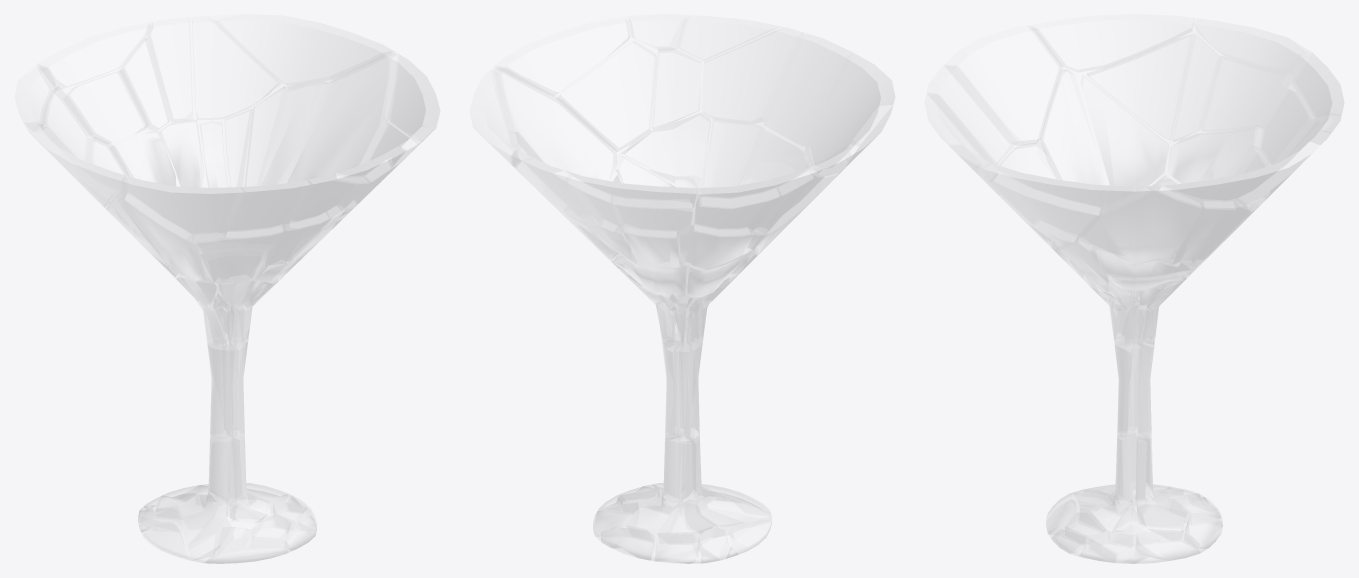
File: Cocktail.obj
3 views of the same model, side by side, from view 1: azimuth 30°, elevation 25°; view 2: azimuth 150°, elevation 25°; view 3: azimuth 270°, elevation 25° (orthographic).
Visible parts, largest first — view 1: 立方体.001, 立方体.002_cell.045, 立方体.002_cell.093, 立方体.002_cell.055, 立方体.002_cell.050, 立方体.002_cell.092, 立方体.002_cell.056, 立方体.002_cell.001, 立方体.002_cell.059, 立方体.002_cell.010, 立方体.002_cell.019, 立方体.002_cell.027 (+29 smaller); view 2: 立方体.001, 立方体.002_cell.045, 立方体.002_cell.073, 立方体.002_cell.027, 立方体.002_cell.019, 立方体.002_cell.010, 立方体.002_cell.050, 立方体.002_cell.023, 立方体.002_cell.020, 立方体.002_cell.095, 立方体.002_cell.058, 立方体.002_cell.093 (+31 smaller); view 3: 立方体.001, 立方体.002_cell.050, 立方体.002_cell.074, 立方体.002_cell.045, 立方体.002_cell.046, 立方体.002_cell.088, 立方体.002_cell.031, 立方体.002_cell.086, 立方体.002_cell.085, 立方体.002_cell.019, 立方体.002_cell.093, 立方体.002_cell.010 (+28 smaller).
Part boxes in pixels (x1,y1,x2,y2): 立方体.001: [15, 14, 439, 563]; 立方体.002_cell.045: [287, 54, 395, 182]; 立方体.002_cell.093: [216, 14, 392, 84]; 立方体.002_cell.055: [192, 16, 281, 119]; 立方体.002_cell.050: [123, 177, 243, 241]; 立方体.002_cell.092: [67, 70, 148, 142]; 立方体.002_cell.056: [37, 23, 149, 88]; 立方体.002_cell.001: [148, 18, 192, 121]; 立方体.002_cell.059: [259, 81, 326, 184]; 立方体.002_cell.010: [226, 181, 308, 236]; 立方体.002_cell.019: [385, 55, 439, 135]; 立方体.002_cell.027: [290, 175, 368, 227]; 立方体.001: [470, 14, 894, 563]; 立方体.002_cell.045: [494, 68, 616, 180]; 立方体.002_cell.073: [558, 41, 656, 151]; 立方体.002_cell.027: [703, 28, 803, 123]; 立方体.002_cell.019: [496, 19, 629, 94]; 立方体.002_cell.010: [763, 34, 852, 145]; 立方体.002_cell.050: [805, 54, 894, 165]; 立方体.002_cell.023: [652, 49, 700, 128]; 立方体.002_cell.020: [621, 113, 710, 169]; 立方体.002_cell.095: [707, 119, 763, 186]; 立方体.002_cell.058: [677, 15, 779, 60]; 立方体.002_cell.093: [470, 70, 519, 164]; 立方体.001: [925, 14, 1343, 563]; 立方体.002_cell.050: [945, 26, 1062, 145]; 立方体.002_cell.074: [1031, 14, 1194, 71]; 立方体.002_cell.045: [1080, 186, 1201, 263]; 立方体.002_cell.046: [1087, 35, 1192, 139]; 立方体.002_cell.088: [1081, 75, 1168, 185]; 立方体.002_cell.031: [1041, 70, 1106, 184]; 立方体.002_cell.086: [1201, 56, 1289, 130]; 立方体.002_cell.085: [1168, 128, 1257, 182]; 立方体.002_cell.019: [984, 164, 1149, 214]; 立方体.002_cell.093: [1160, 142, 1319, 207]; 立方体.002_cell.010: [927, 66, 1017, 164].
Size of the model in its own units: 0.2776 by 0.309 by 0.2776.
Materials: 1 (1 with a texture image).
